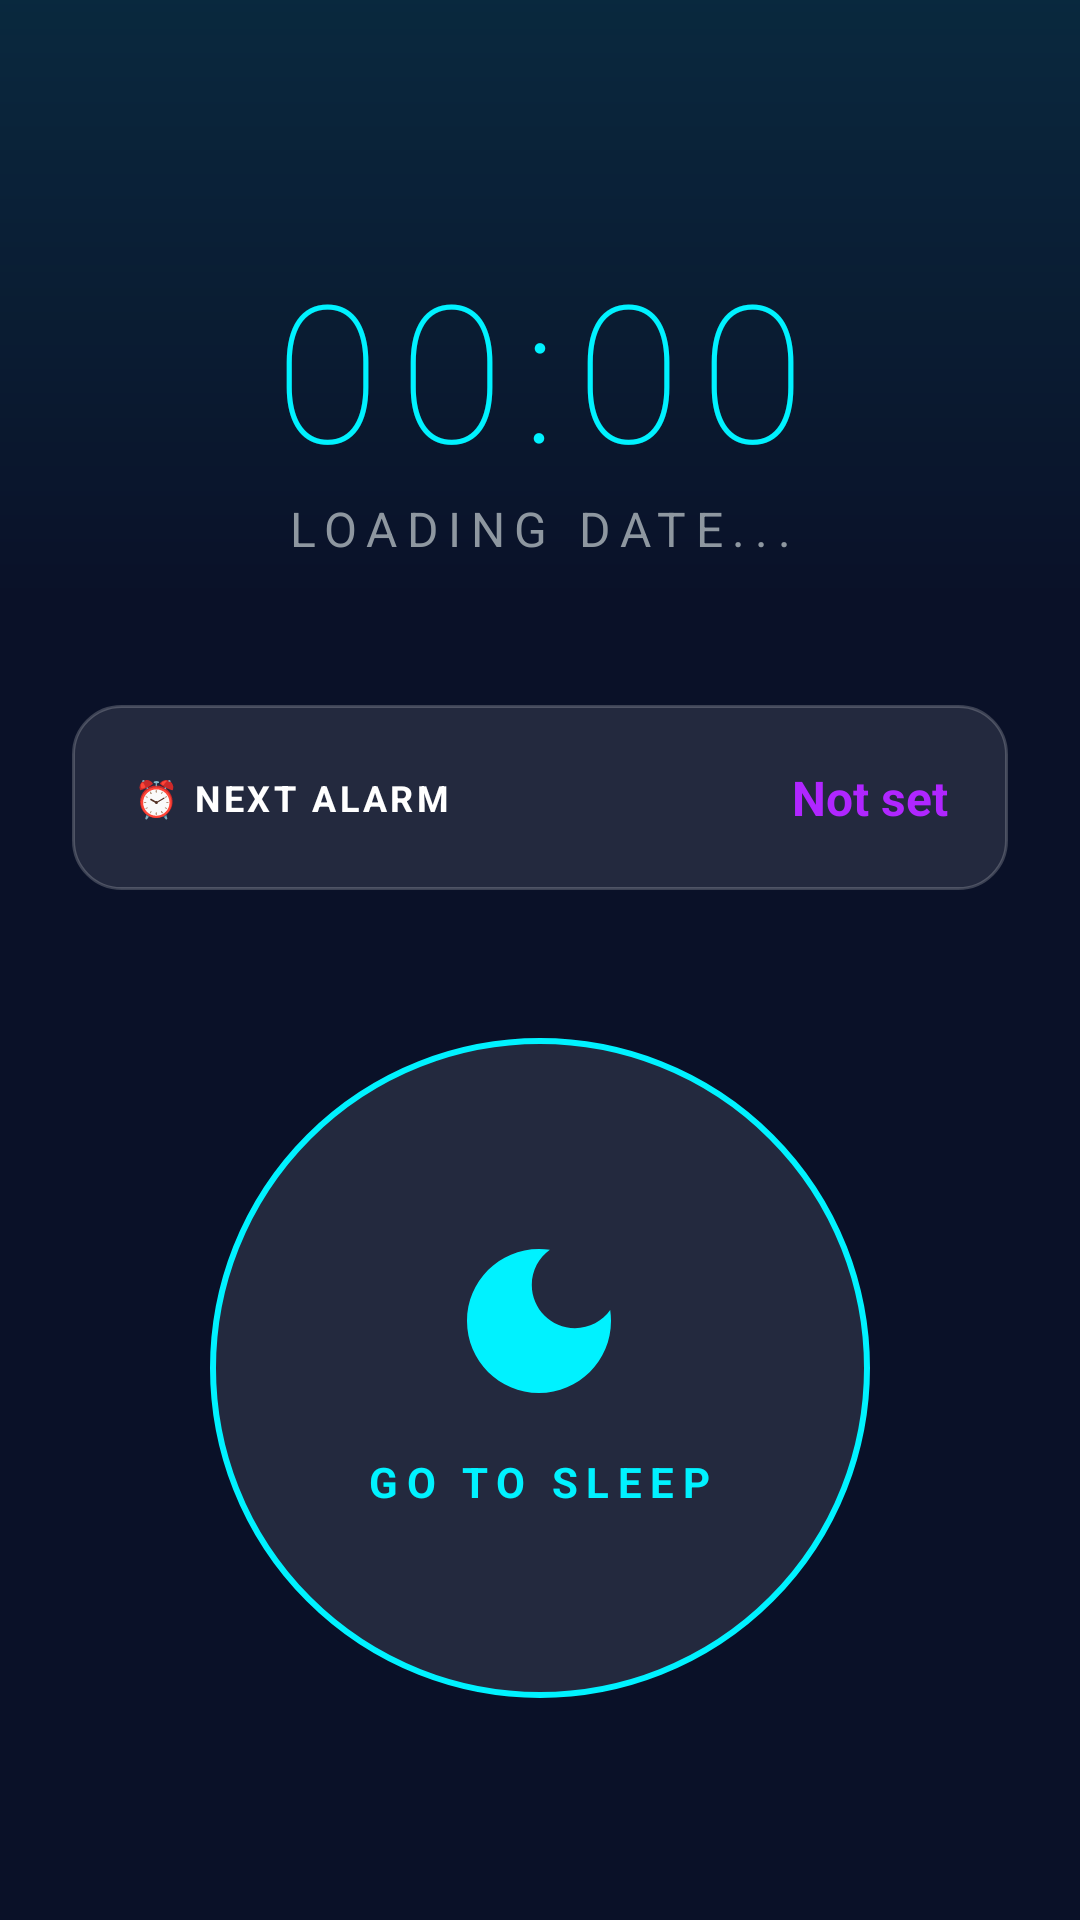

Icon bounding boxes for this 1080x1920 phone screenshot, format (x1, y1, x2, y2):
moon neon: (467, 1249, 611, 1393)
